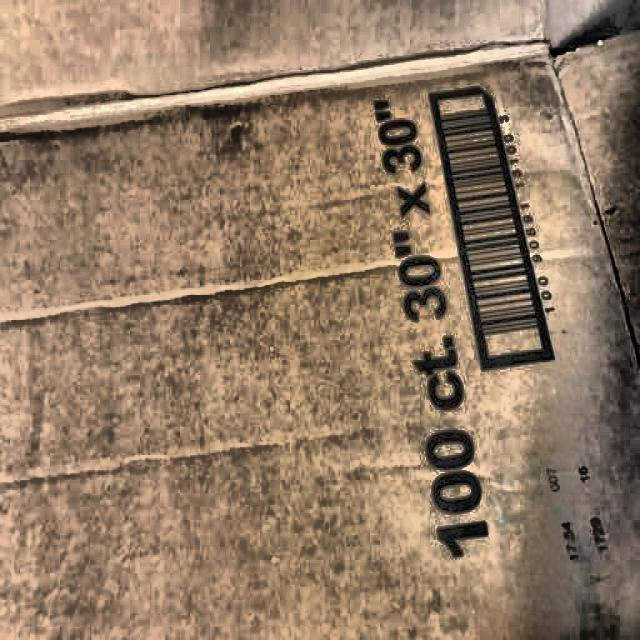cardboard: (12, 17, 618, 621)
